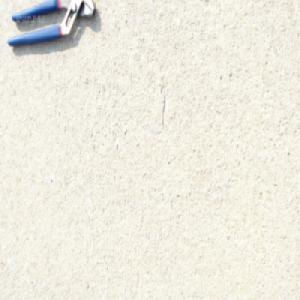Pliers: (6, 0, 96, 50)
